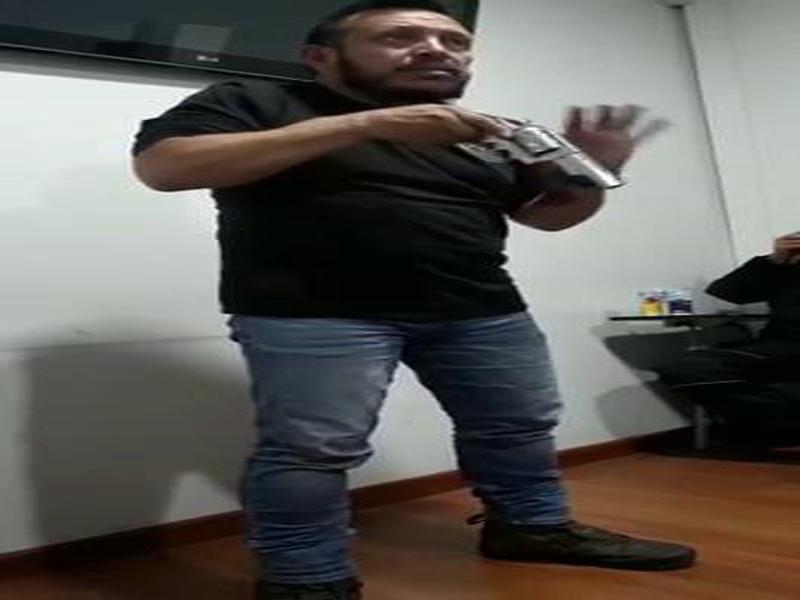Revolver: (455, 94, 638, 224)
